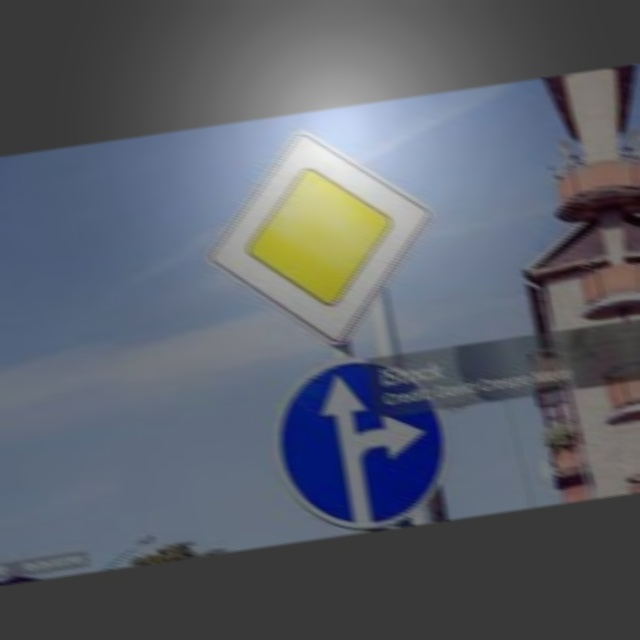Compulsory_Ahead_or_Turn_Right: (268, 349, 447, 533)
